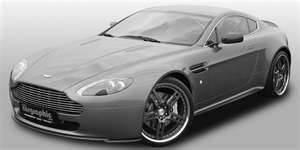car: (5, 6, 291, 147)
